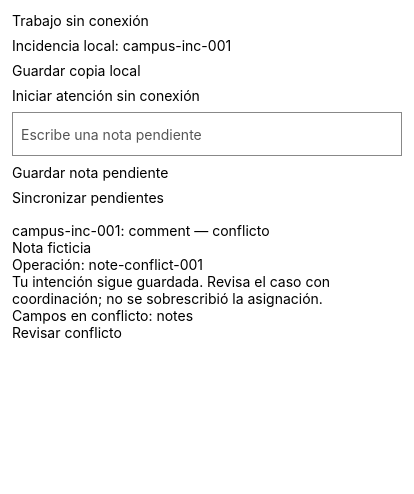
it: conflict requires explicit acceptance and preserves local text on resolution failure
Expected: the text "Campos en conflicto: notes" is shown, [12,307,193,324]
Click the button "Revisar conflicto" at (67, 332), box [12,324,402,341]
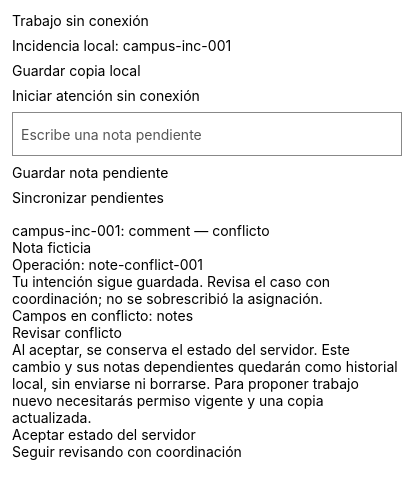
Click the button "Seguir revisando con coordinación" at (207, 452), box [12,443,402,460]
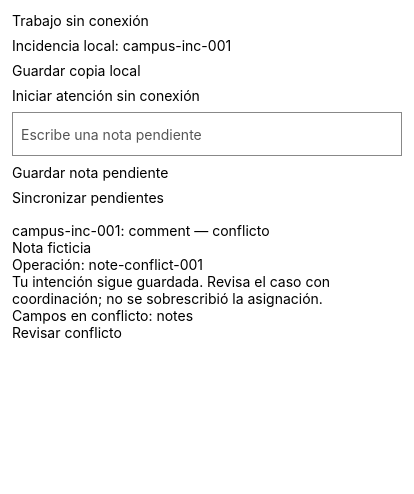
Click the button "Revisar conflicto" at (67, 332), box [12,324,402,341]
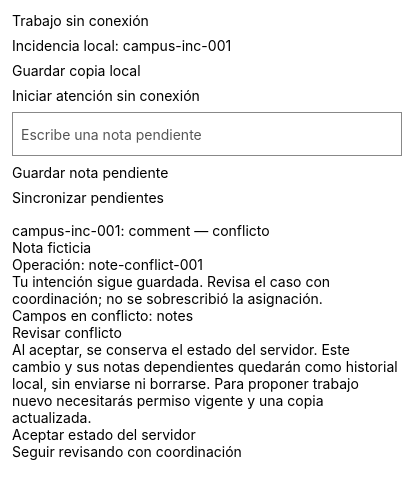
Click the button "Aceptar estado del servidor" at (104, 434), box [12,426,402,443]
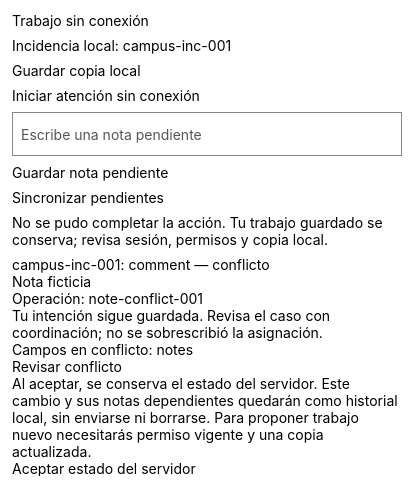
Expected: the text "Nota ficticia" is shown, [12,273,91,290]
Result: the text "No se pudo completar" is shown at [12,214,386,248]
Click the button "Aceptar estado del servidor" at (104, 468), box [12,460,402,477]
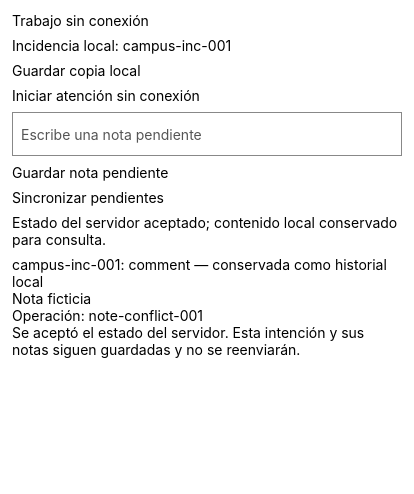
Expected: the text "Nota ficticia" is shown, [12,290,91,307]
Result: the text "Estado del servidor aceptado;" is shown at [12,214,401,248]
Result: the button "Revisar conflicto" is gone
